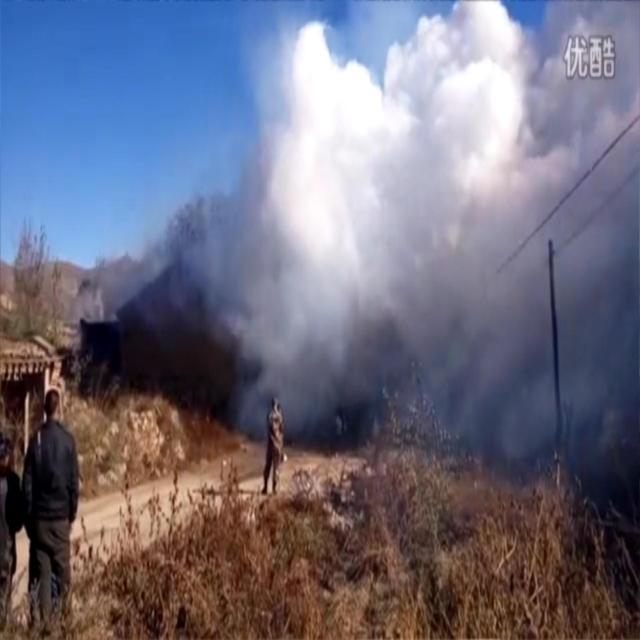Smoke: (128, 0, 640, 477)
